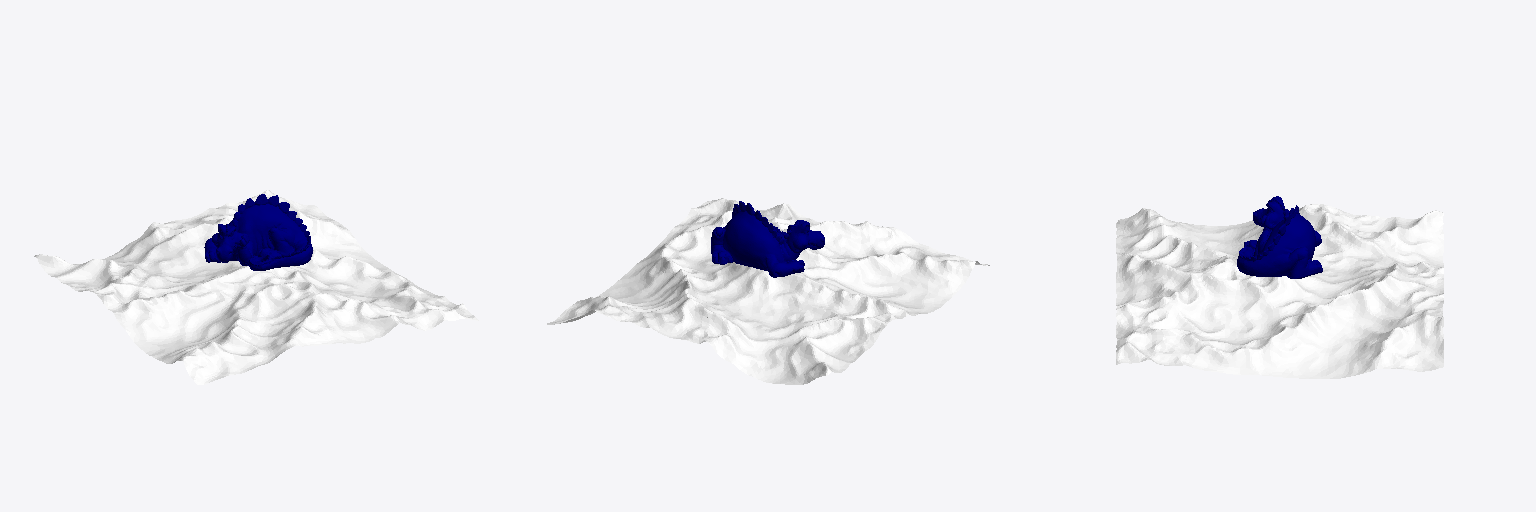
File: dragon_with_plane_ao.obj
The picture shows the model from 3 angles: view 1: azimuth 30°, elevation 25°; view 2: azimuth 150°, elevation 25°; view 3: azimuth 270°, elevation 25°; orthographic projection.
Bounding box in the file's own units: 508 × 186 × 508.